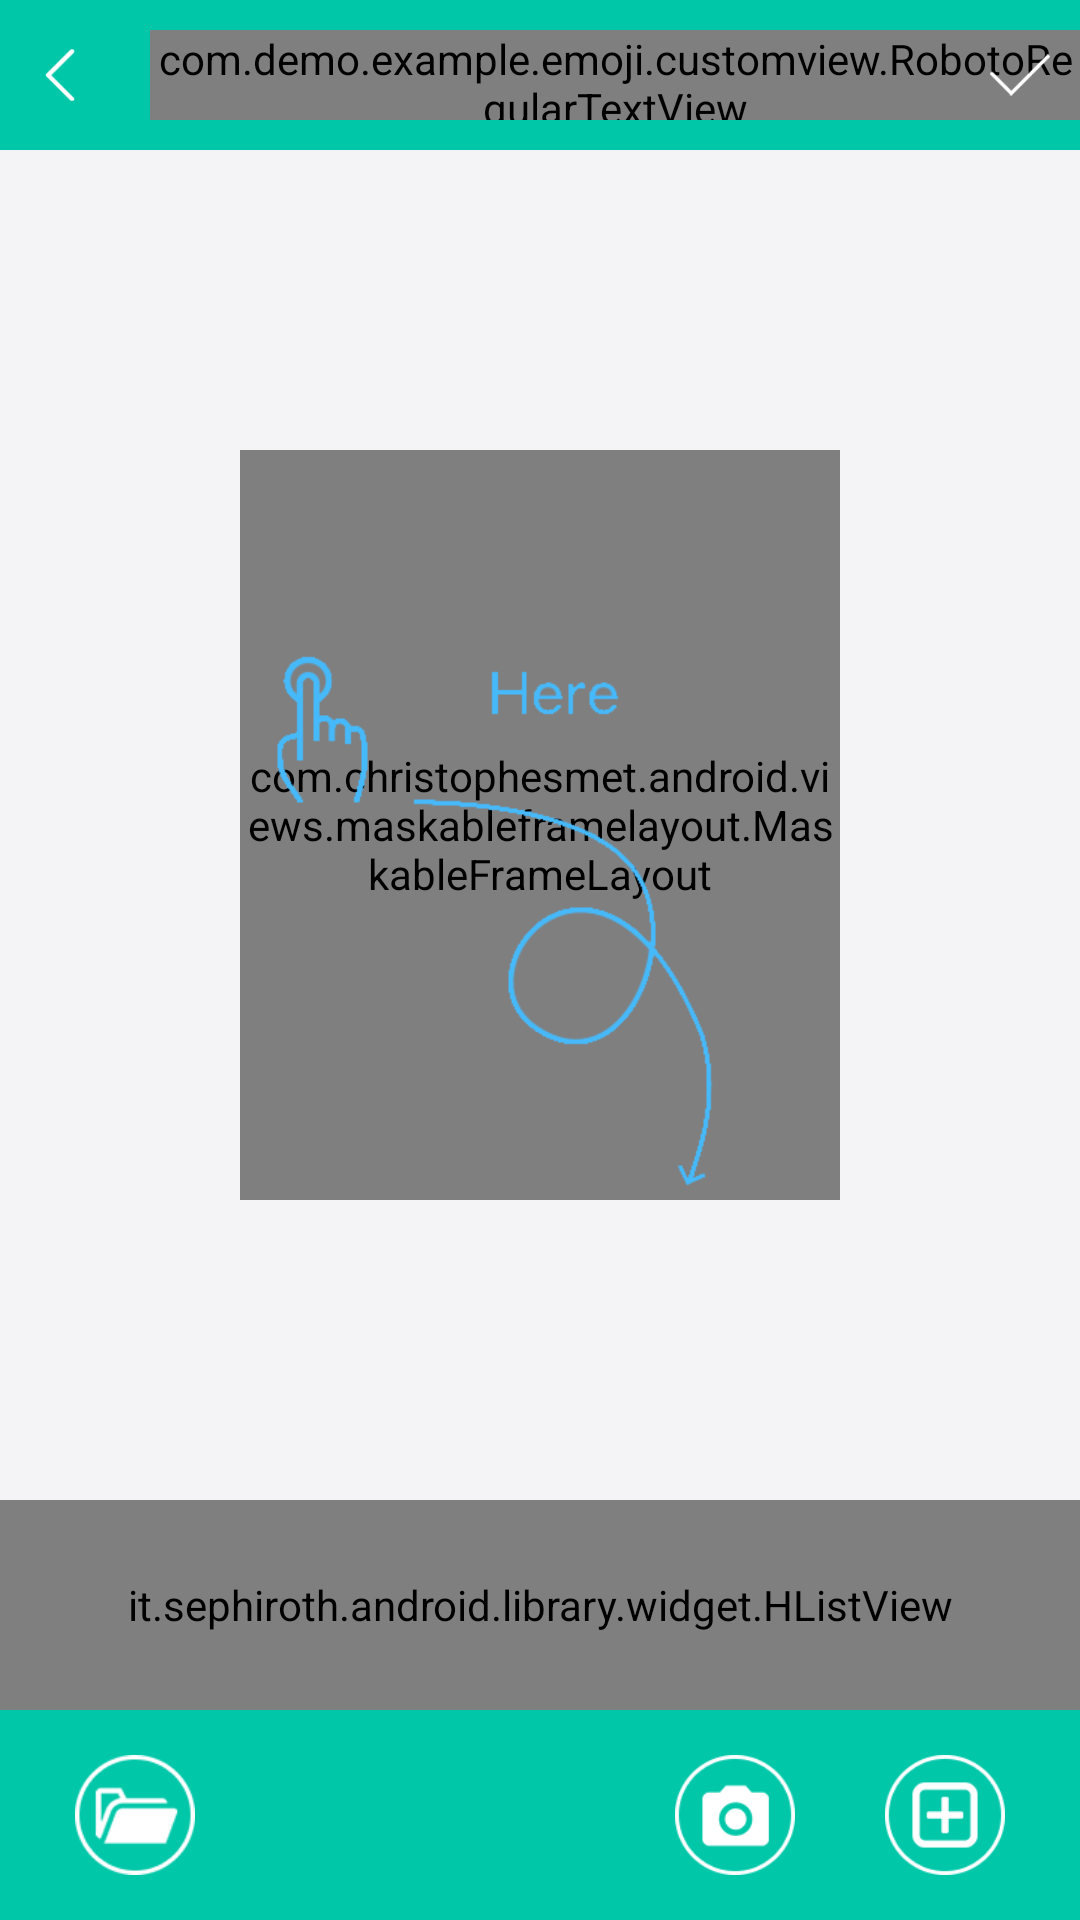

Point at icon controls on the screen. Image size 1080*1920, points as [x,y].
add photo: [945,1815]
back: [60,75]
camera: [735,1815]
